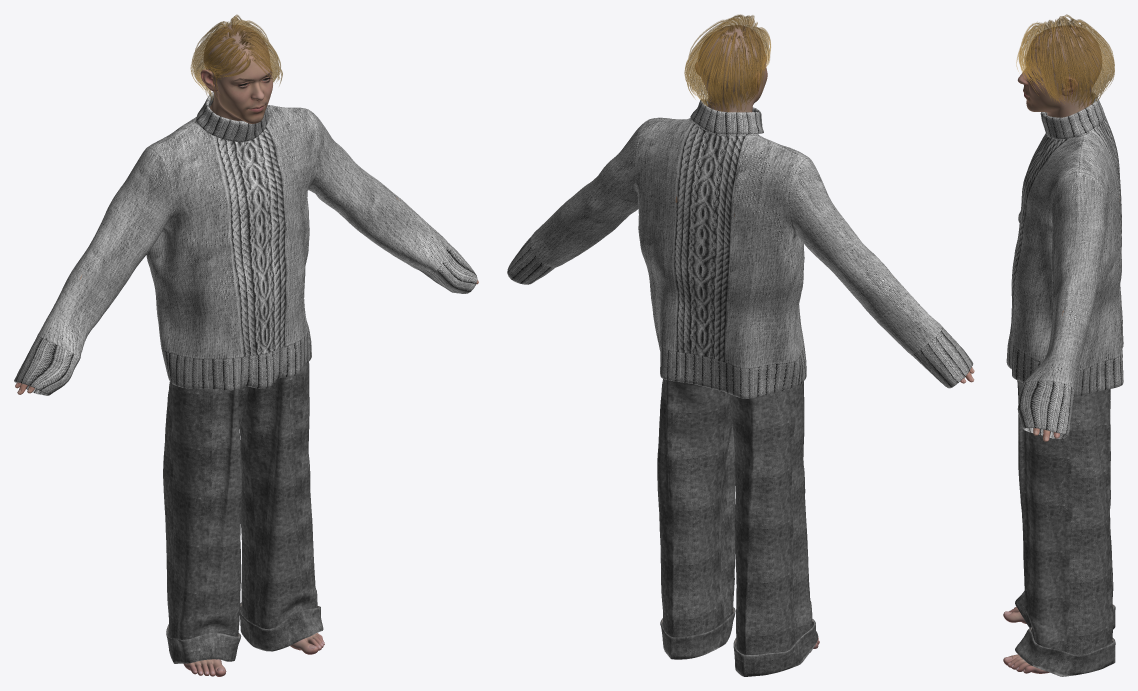
Rendered from male-pale-trousers-shirt.glb.
3 views of the same model, side by side, from view 1: azimuth 30°, elevation 25°; view 2: azimuth 150°, elevation 25°; view 3: azimuth 270°, elevation 25° (orthographic).
Parts seen in each view (by area): view 1: Clothing MUO Sweater, Clothing MUO Pants, Body, Hair JL Hair 004 Multilayered Short Hair; view 2: Clothing MUO Sweater, Clothing MUO Pants, Hair JL Hair 004 Multilayered Short Hair, Body; view 3: Clothing MUO Sweater, Clothing MUO Pants, Body, Hair JL Hair 004 Multilayered Short Hair.
Part boxes in pixels (box(x1,y1,x2,y2)): Clothing MUO Sweater: box(14, 91, 477, 395); Clothing MUO Pants: box(163, 362, 323, 663); Body: box(15, 25, 478, 676); Hair JL Hair 004 Multilayered Short Hair: box(190, 14, 282, 100); Clothing MUO Sweater: box(507, 99, 973, 398); Clothing MUO Pants: box(657, 379, 818, 676); Hair JL Hair 004 Multilayered Short Hair: box(684, 14, 770, 112); Body: box(675, 25, 974, 652); Clothing MUO Sweater: box(1006, 92, 1123, 438); Clothing MUO Pants: box(1015, 380, 1115, 676); Body: box(1003, 25, 1119, 673); Hair JL Hair 004 Multilayered Short Hair: box(1016, 14, 1114, 108).
Bounding box in the file's own units: 1.33 × 1.74 × 0.3019.
Materials: 21 (19 with a texture image).
